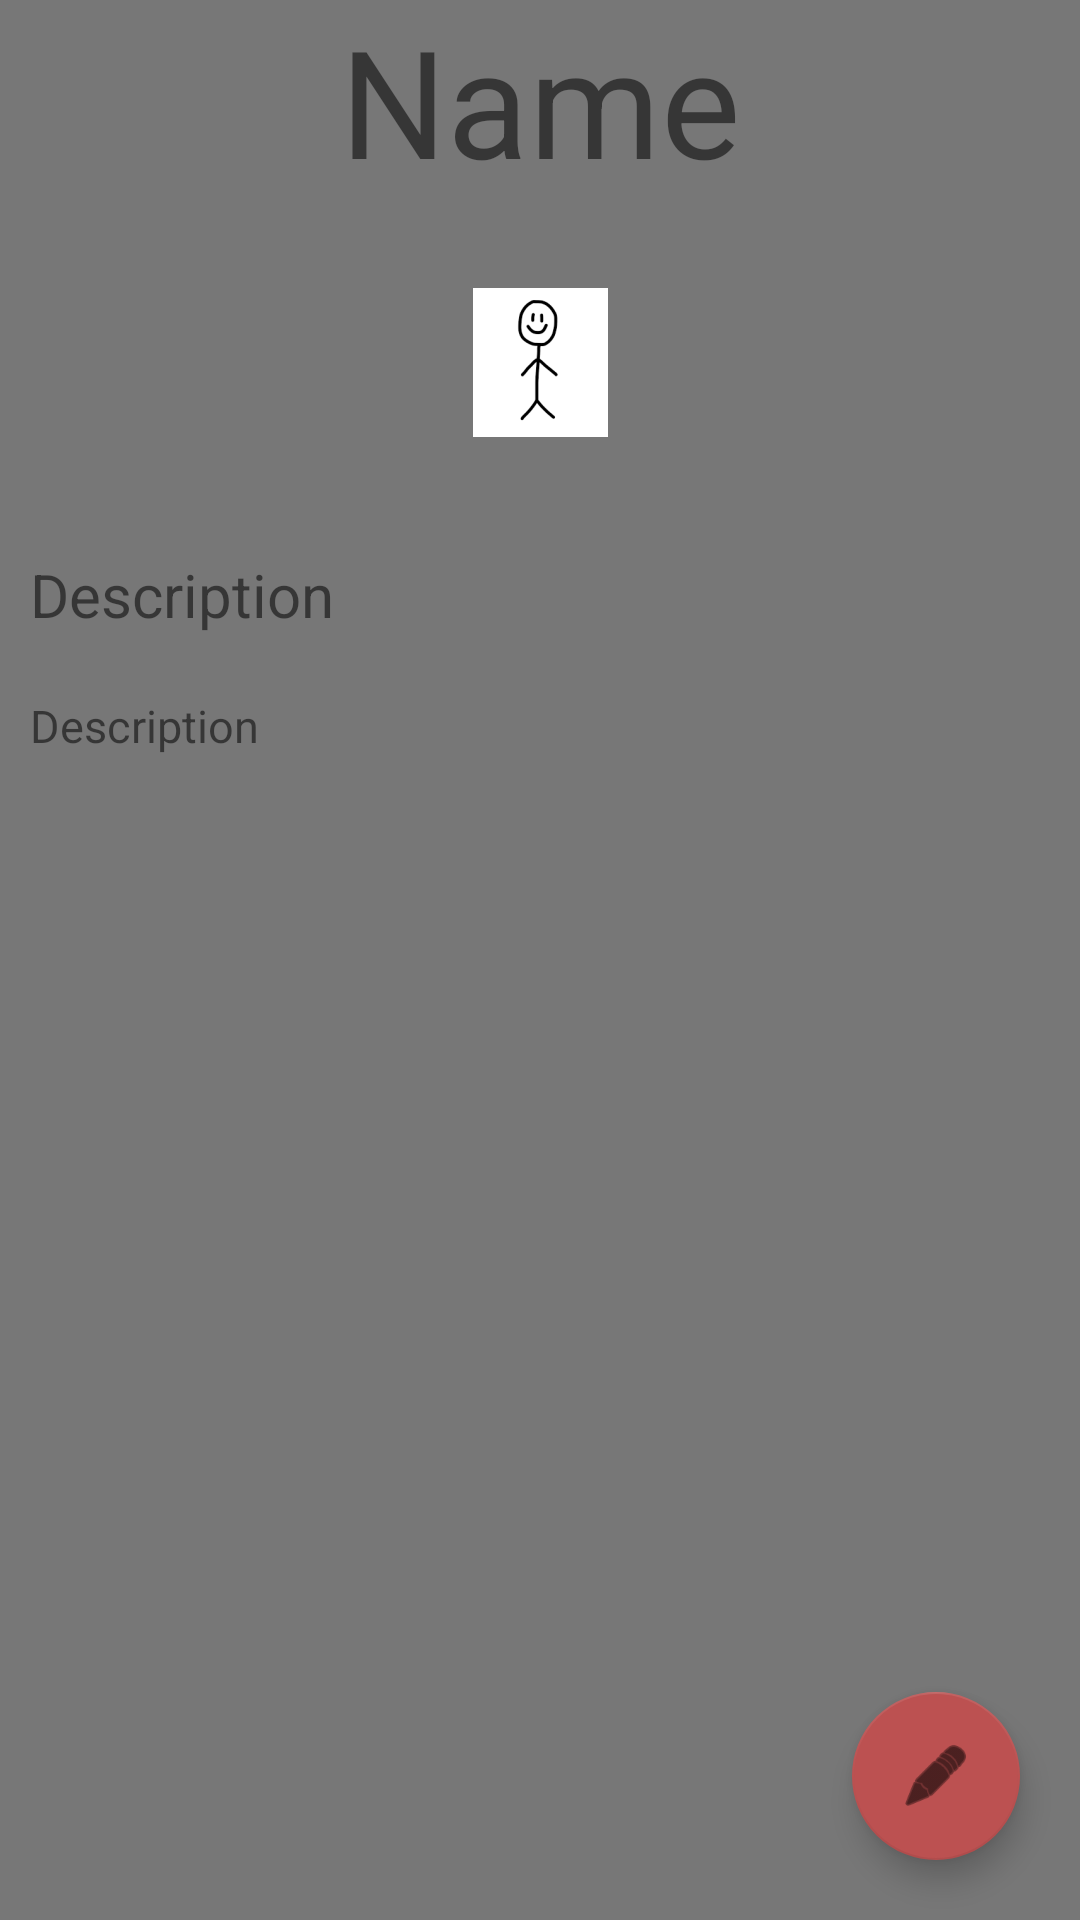

Point at icon controls on the screen. Image size 1080px×1920px, points as [x,y].
Edit: [936,1776]
stickman: [540,362]
